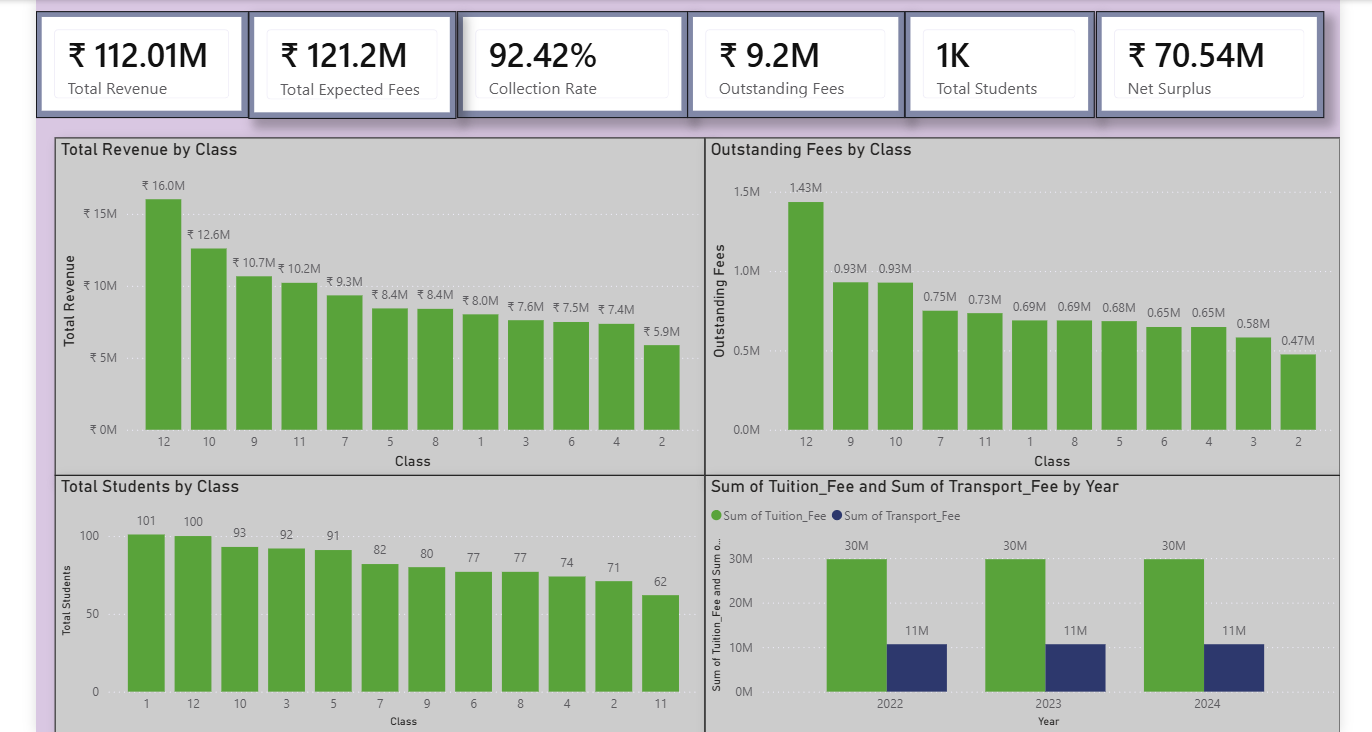

What the dashboard file says about the page in this screenshot:
{"tool":"powerbi","page":{"name":"Financial Health 1","canvas":[1280,720],"ordinal":0},"visuals":[{"type":"cardVisual","fields":{"Data":["All_Measures.Collection Rate"]},"box":[413,11.2,226.4,104.5],"z":0},{"type":"cardVisual","fields":{"Data":["All_Measures.Outstanding Fees"]},"box":[639.4,11.2,214,104.5],"z":1000},{"type":"cardVisual","fields":{"Data":["All_Measures.Total Expected Fees"]},"box":[209,11.2,204,105.7],"z":2000},{"type":"cardVisual","fields":{"Data":["All_Measures.Total Revenue"]},"box":[0,11.2,209,104.5],"z":3000},{"type":"columnChart","fields":{"Category":["students.Class"],"Y":["All_Measures.Total Revenue"]},"box":[17.8,134.5,638.1,332.1],"z":4000},{"type":"cardVisual","fields":{"Data":["All_Measures.Total Students"]},"box":[853.4,11.2,186.6,104.5],"z":5000},{"type":"columnChart","fields":{"Category":["students.Class"],"Y":["All_Measures.Total Students"]},"box":[17.8,466.6,638.1,253.9],"z":6000},{"type":"columnChart","fields":{"Category":["students.Class"],"Y":["All_Measures.Outstanding Fees"]},"box":[655.9,134.5,624.4,332.1],"z":7000},{"type":"clusteredColumnChart","fields":{"Category":["date_table.Date.Variation.Date Hierarchy.Year","date_table.Date.Variation.Date Hierarchy.Quarter","date_table.Date.Variation.Date Hierarchy.Month","date_table.Date.Variation.Date Hierarchy.Day"],"Y":["Sum(fee_payments.Tuition_Fee)","Sum(fee_payments.Transport_Fee)"]},"box":[655.9,466.6,624.4,253.9],"z":8000},{"type":"cardVisual","fields":{"Data":["All_Measures.Net Surplus"]},"box":[1040,11.2,223.9,104.5],"z":8001}]}

Visuals, with their boxes on the page's 1280x720 design canvas (x1, y1, x2, y2). These are canvas units, not pixel positions in the 1372x732 screenshot, which may show the page scaled, cropped or inside an application window:
cardVisual - All_Measures.Collection Rate: left=413, top=11, right=639, bottom=116
cardVisual - All_Measures.Outstanding Fees: left=639, top=11, right=853, bottom=116
cardVisual - All_Measures.Total Expected Fees: left=209, top=11, right=413, bottom=117
cardVisual - All_Measures.Total Revenue: left=0, top=11, right=209, bottom=116
columnChart - students.Class x All_Measures.Total Revenue: left=18, top=134, right=656, bottom=467
cardVisual - All_Measures.Total Students: left=853, top=11, right=1040, bottom=116
columnChart - students.Class x All_Measures.Total Students: left=18, top=467, right=656, bottom=720
columnChart - students.Class x All_Measures.Outstanding Fees: left=656, top=134, right=1280, bottom=467
clusteredColumnChart - date_table.Date.Variation.Date Hierarchy.Year x date_table.Date.Variation.Date Hierarchy.Quarter: left=656, top=467, right=1280, bottom=720
cardVisual - All_Measures.Net Surplus: left=1040, top=11, right=1264, bottom=116
